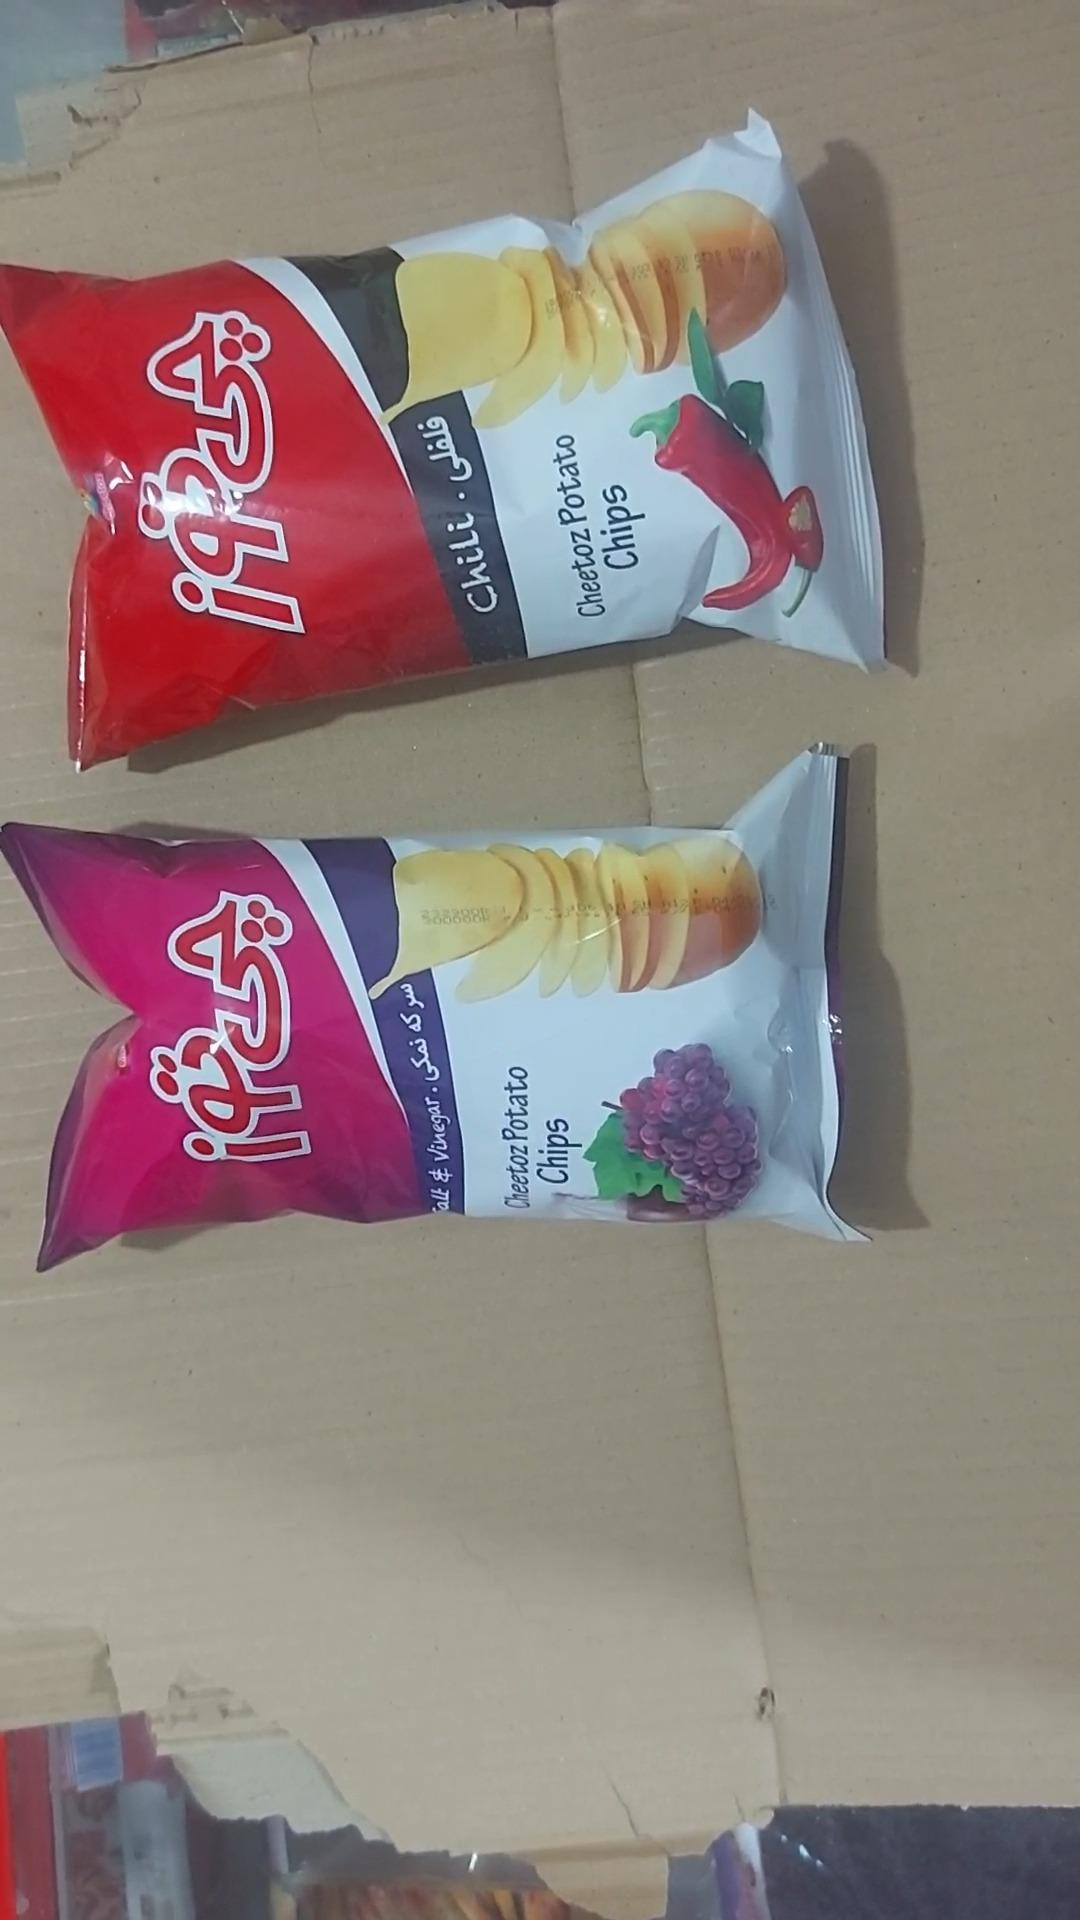Cheetoz chili chips: (0, 111, 885, 771)
Cheetoz vinegar chips: (0, 742, 872, 1274)
